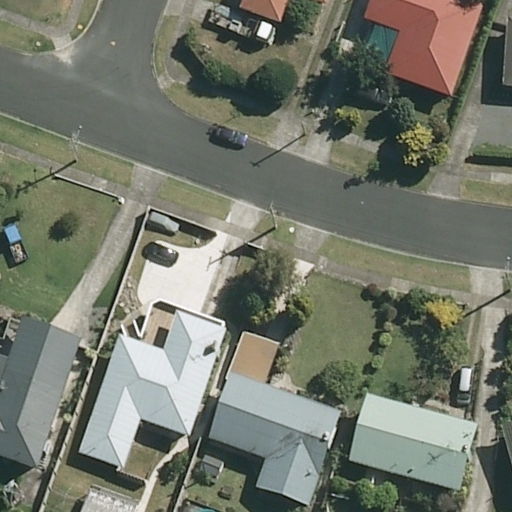DT: (63, 124, 88, 163), (259, 197, 286, 232), (498, 255, 511, 290)
